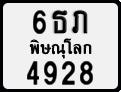letters: (70, 9, 89, 34), (50, 9, 68, 34), (42, 59, 58, 86), (60, 60, 76, 86), (26, 59, 40, 87), (32, 9, 47, 35), (79, 61, 94, 85)
province: (28, 37, 94, 60)
